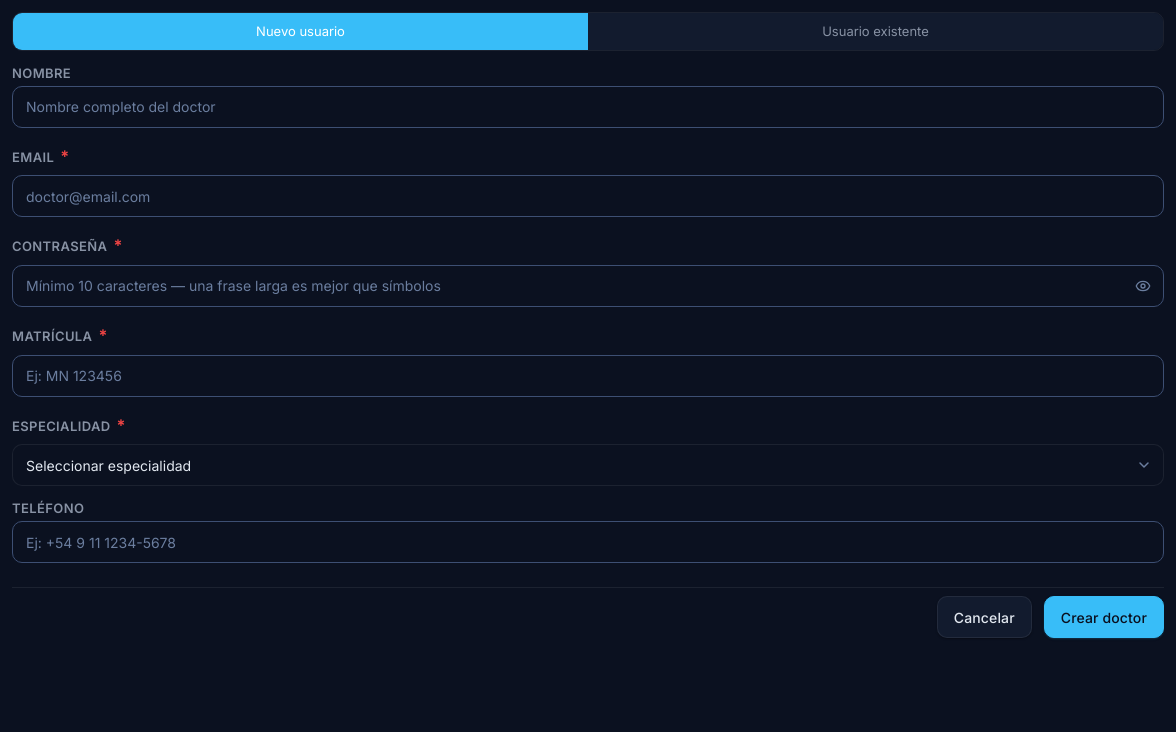
DoctorForm — usuario existente › cuando no queda ninguna cuenta libre lo dice y sugiere crear una nueva
Click the button "Usuario existente" at (876,31), box [588,13,1163,50]
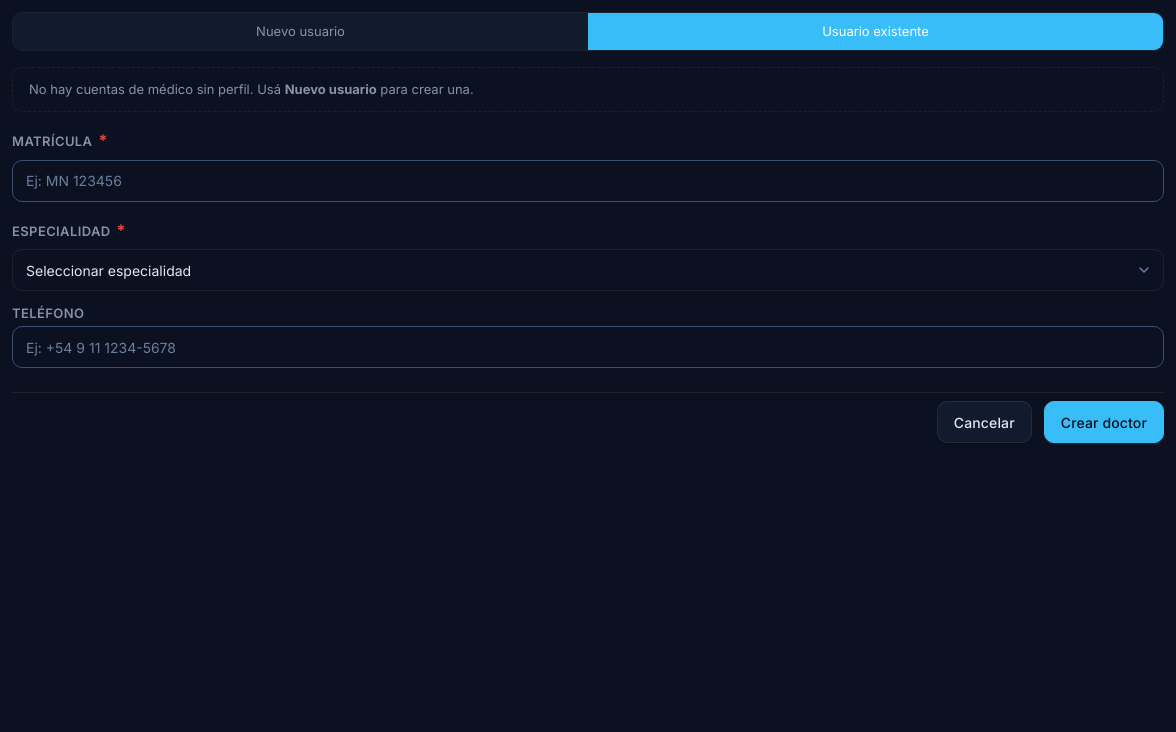
Check: the text "No hay cuentas de médico sin perfil. Usá Nuevo usuario para crear una." is shown, box [12,67,1164,112]
